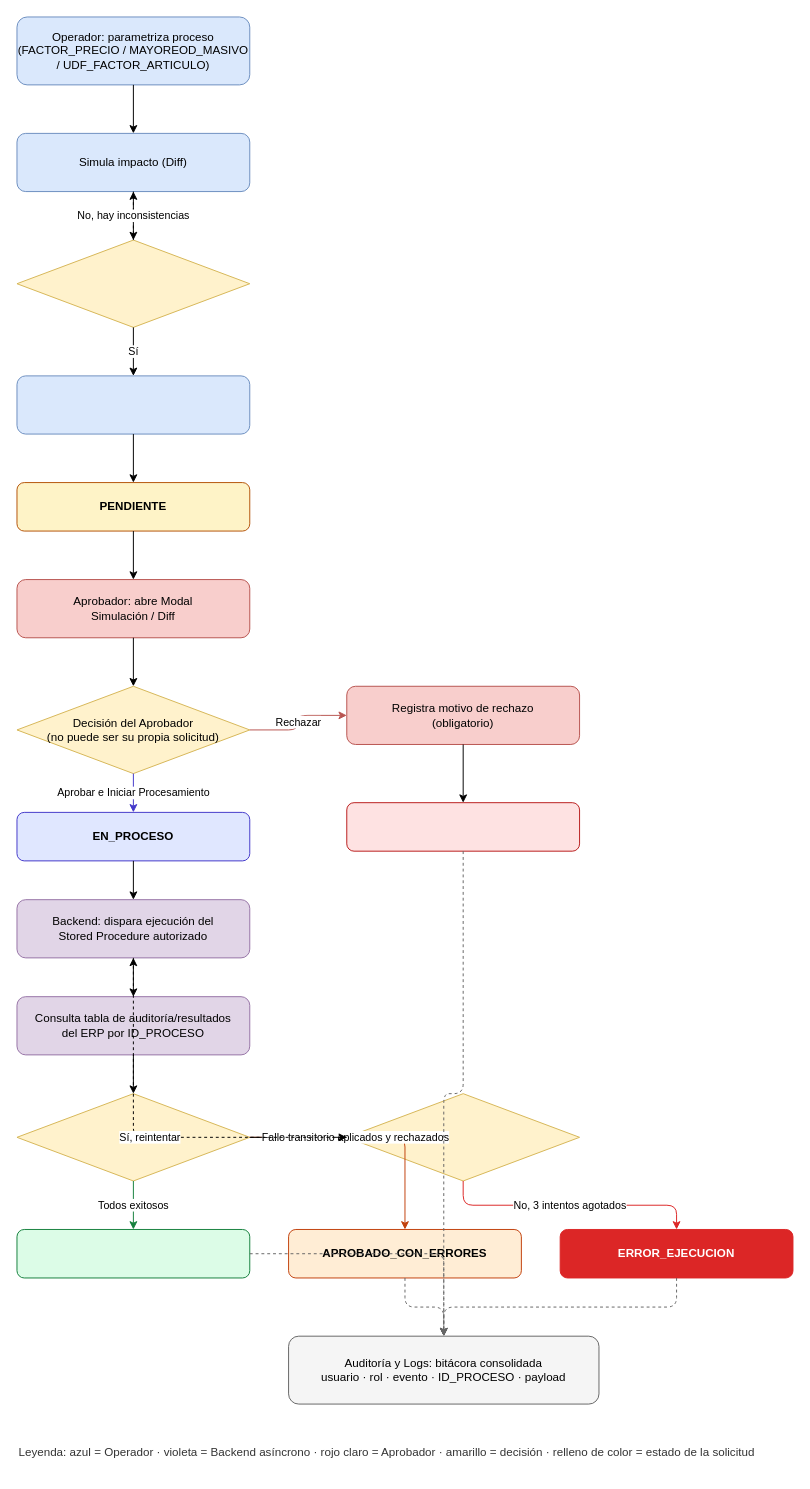
Some shapes in this 810 by 1489 pixel diagram are drawn without their labels. The box of each missing label's shape, as (x1, y1, x2, y2) in pixels:
APROBADO: (16, 1229, 250, 1278)
Balance de registros procesados vs. error: (16, 1093, 250, 1181)
Envía a Aprobación: (16, 375, 250, 434)
RECHAZADO: (346, 802, 580, 851)
¿Reintentos transitorios < 3?: (346, 1093, 580, 1181)
¿Simulación válida sin inconsistencias?: (16, 239, 250, 327)
